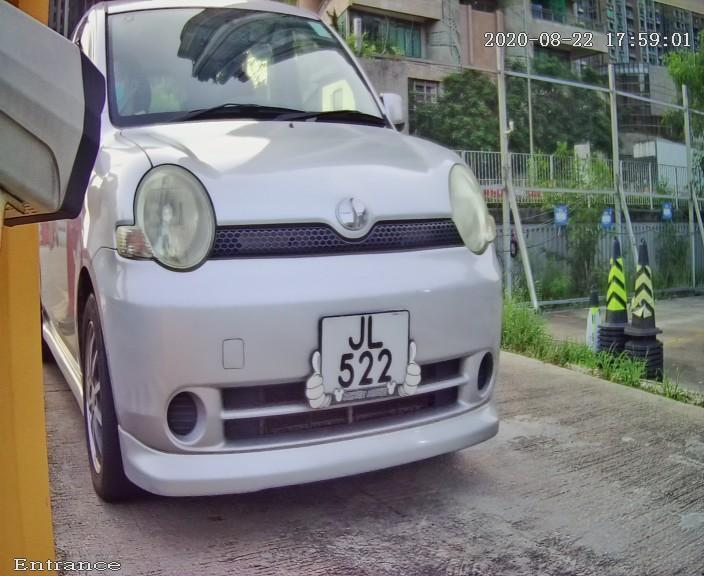License Plate: (302, 301, 425, 415)
